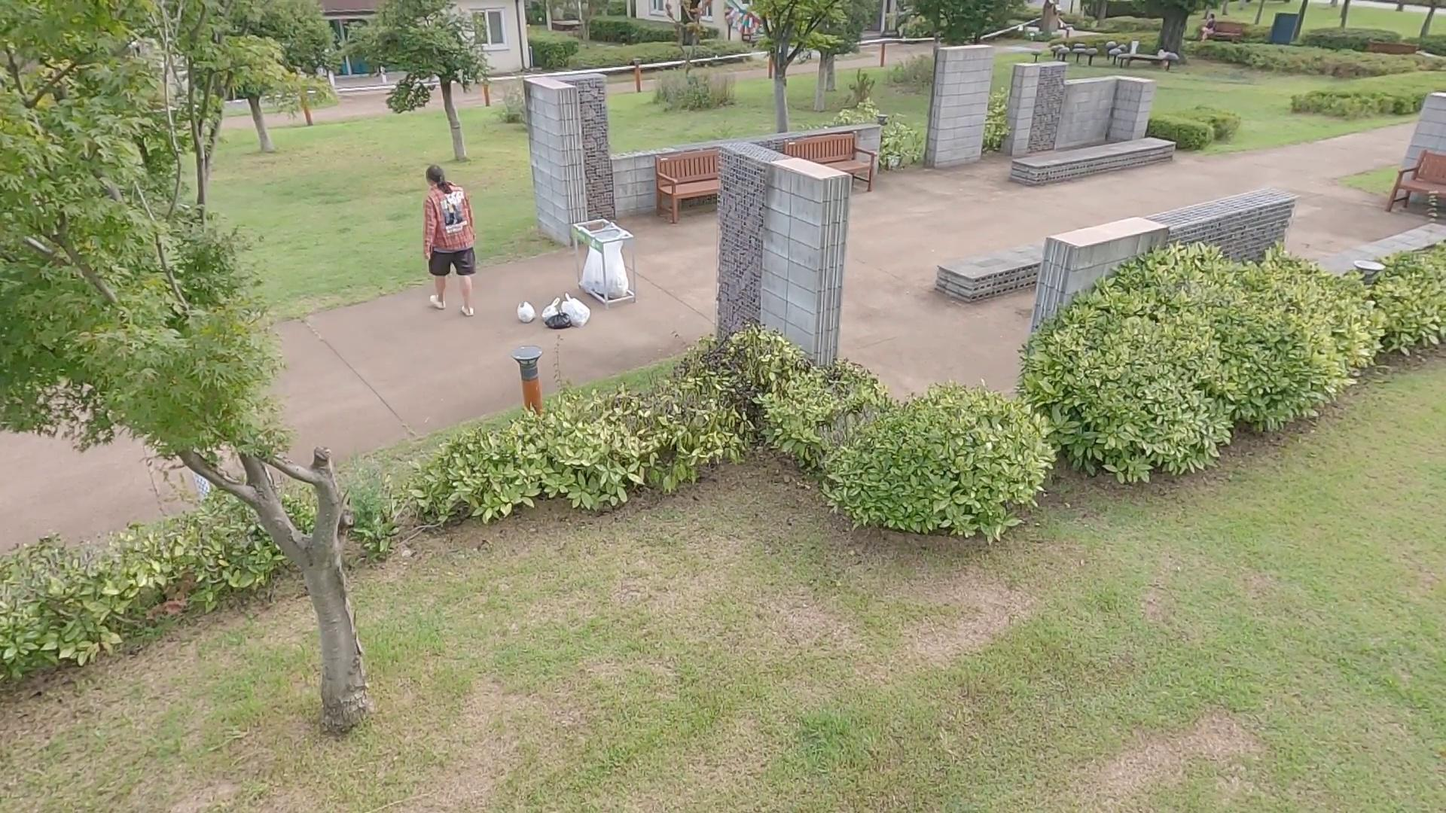person: (419, 158, 482, 320)
trash: (559, 294, 593, 328), (543, 311, 577, 331), (539, 298, 561, 325), (516, 301, 536, 323)
